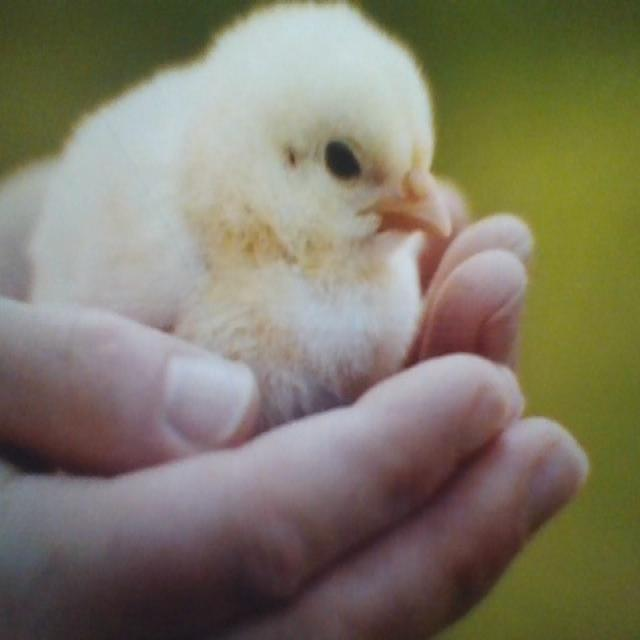Healthy: (24, 2, 456, 438)
